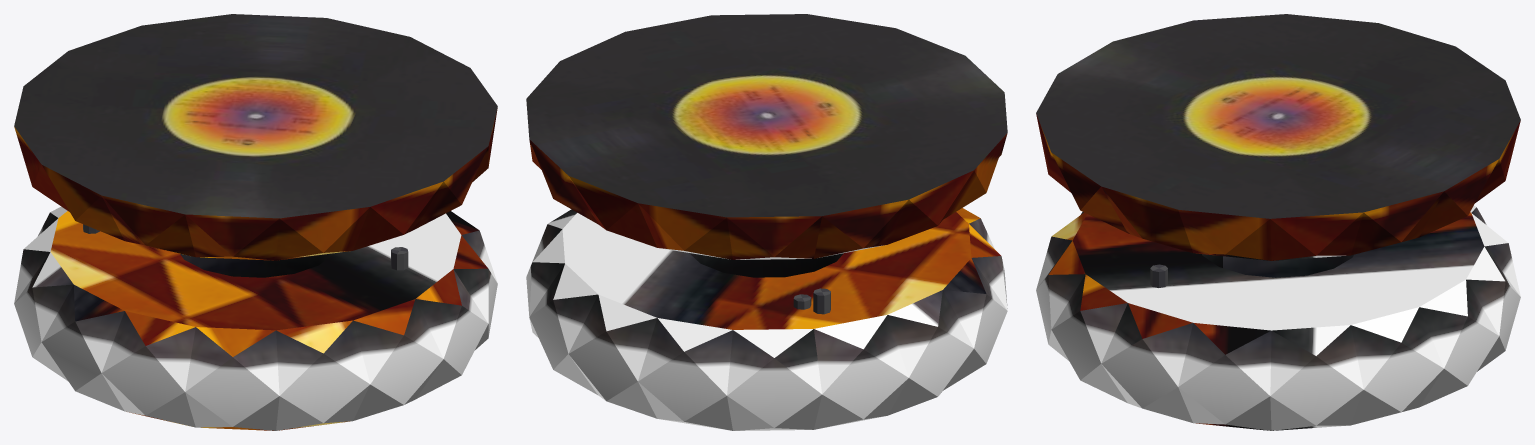
Rendered from msh_BarAnanas 1.fbx.
3 renders of one model, left to right at view 1: azimuth 30°, elevation 25°; view 2: azimuth 150°, elevation 25°; view 3: azimuth 270°, elevation 25°, orthographic.
Visible parts, largest first — view 1: msh_BarAnanas, msh_BarAnanas.001; view 2: msh_BarAnanas, msh_BarAnanas.001; view 3: msh_BarAnanas, msh_BarAnanas.001.
Part boxes in pixels (x1,y1,x2,y2): msh_BarAnanas: (14,14,497,430); msh_BarAnanas.001: (160,76,351,156); msh_BarAnanas: (526,14,1007,430); msh_BarAnanas.001: (672,75,861,155); msh_BarAnanas: (1036,14,1520,430); msh_BarAnanas.001: (1183,76,1373,156).
Bounding box in the file's own units: 235 × 122 × 235.
